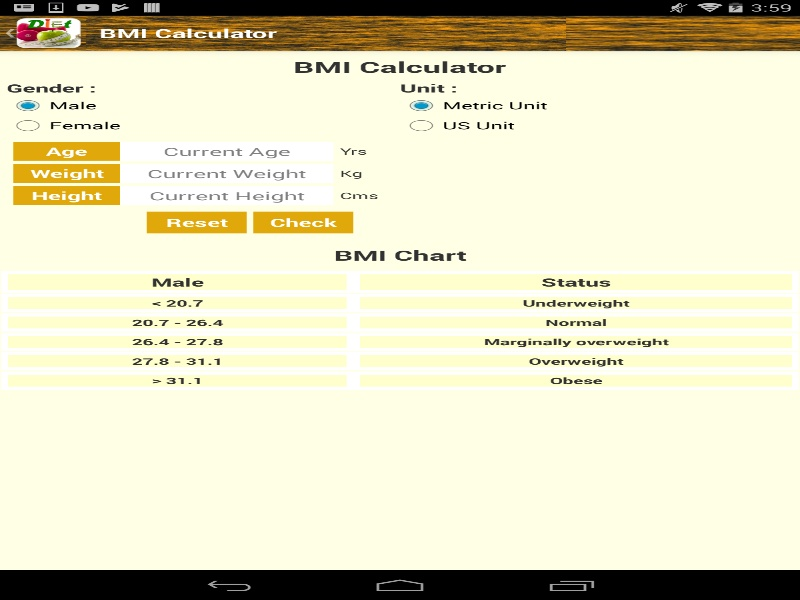Button: (146, 211, 246, 233), (253, 211, 353, 233)
Input: (120, 141, 333, 160), (120, 164, 333, 183), (120, 186, 333, 205)
